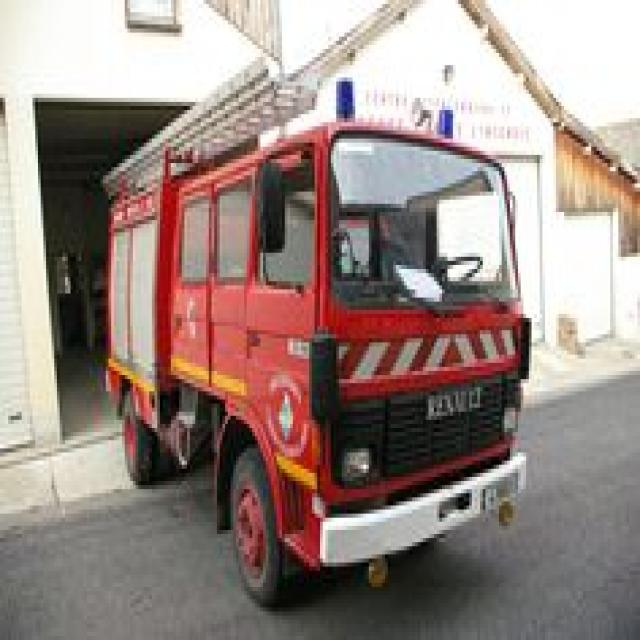pompier: (105, 74, 538, 602)
